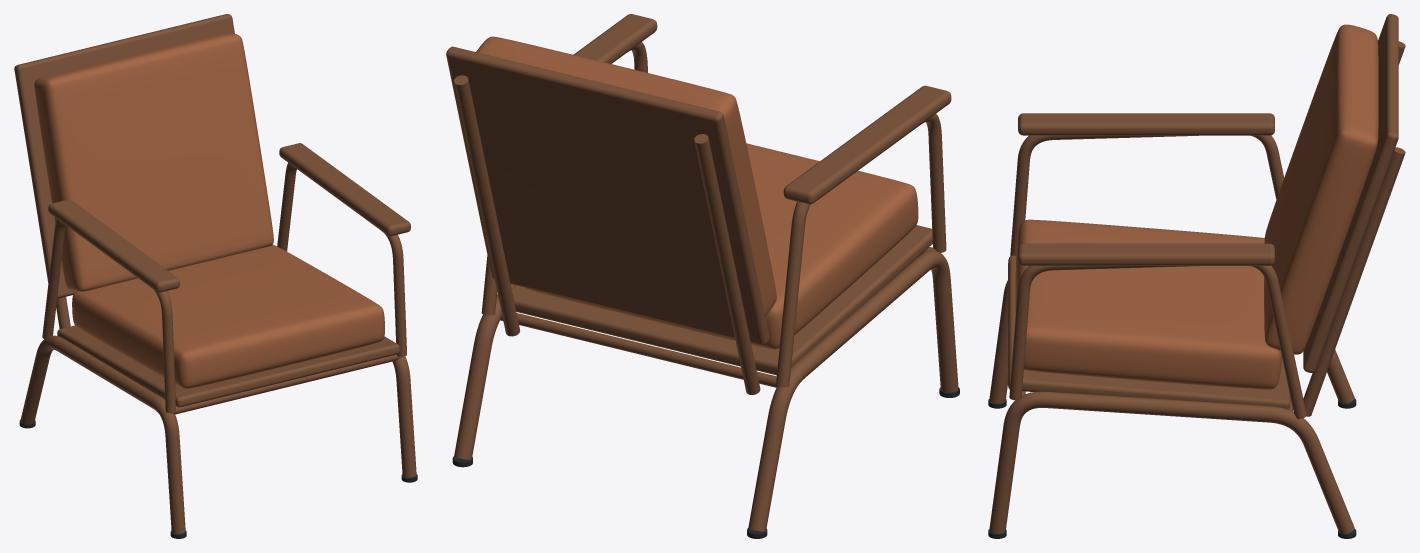
The model's file is forma-chair.glb.
3 views of the same model, side by side, from view 1: azimuth 30°, elevation 25°; view 2: azimuth 150°, elevation 25°; view 3: azimuth 270°, elevation 25° (orthographic). The views are drawn at different scales.
Visible parts, largest first — view 1: Back cushion, Seat cushion, Back plywood shell, Seat plywood shell, Side frame, Armrest.001, Armrest, Arm frame, Arm frame.001, Side frame.001, Front rail; view 2: Back plywood shell, Seat cushion, Seat plywood shell, Back cushion, Side frame, Armrest, Arm frame, Back support.001, Back support, Rear rail, Side frame.001, Armrest.001 (+1 smaller); view 3: Seat cushion, Back cushion, Side frame.001, Back plywood shell, Seat plywood shell, Armrest, Armrest.001, Arm frame.001, Back support.001, Arm frame, Side frame.
Boxes of the visible parts, x1,y1,x2,y2 form: Back cushion: (34, 32, 273, 291); Seat cushion: (72, 244, 384, 388); Back plywood shell: (14, 14, 234, 298); Seat plywood shell: (57, 325, 399, 407); Side frame: (20, 335, 185, 533); Armrest.001: (279, 143, 410, 236); Armrest: (48, 199, 179, 292); Arm frame: (42, 219, 176, 412); Arm frame.001: (277, 163, 406, 356); Side frame.001: (384, 336, 416, 477); Front rail: (170, 354, 401, 414); Back plywood shell: (446, 46, 769, 345); Seat cushion: (524, 143, 918, 349); Seat plywood shell: (511, 225, 932, 375); Back cushion: (476, 36, 776, 315); Side frame: (748, 250, 958, 531); Armrest: (783, 85, 951, 204); Arm frame: (776, 114, 946, 387); Back support.001: (454, 75, 519, 336); Back support: (694, 134, 760, 394); Rear rail: (500, 312, 776, 387); Side frame.001: (454, 284, 515, 459); Armrest.001: (573, 14, 657, 63); Seat cushion: (1015, 219, 1281, 389); Back cushion: (1264, 24, 1378, 354); Side frame.001: (989, 391, 1354, 533); Back plywood shell: (1303, 14, 1398, 372); Seat plywood shell: (1008, 255, 1290, 409); Armrest: (1018, 113, 1274, 135); Armrest.001: (1018, 243, 1274, 265); Arm frame.001: (1009, 265, 1306, 419); Back support.001: (1303, 147, 1405, 416); Arm frame: (1010, 135, 1284, 255); Side frame: (989, 280, 1354, 403).
Size of the model in its own units: 6.62 by 8.52 by 8.12.
